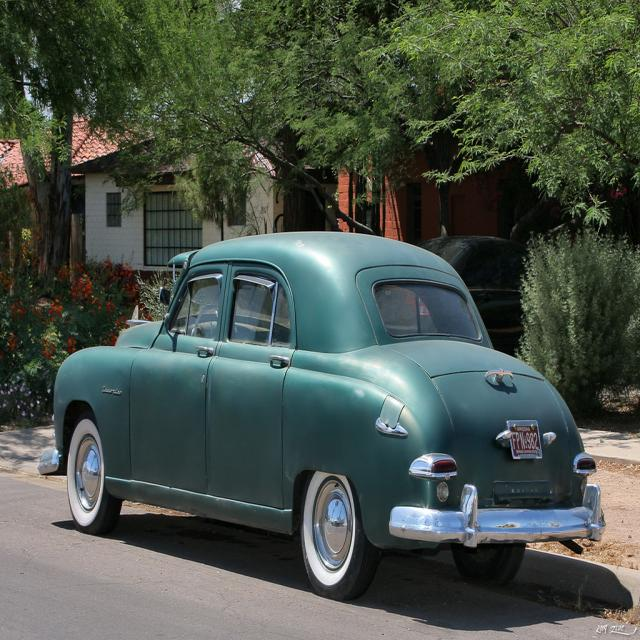car: (54, 241, 588, 594)
